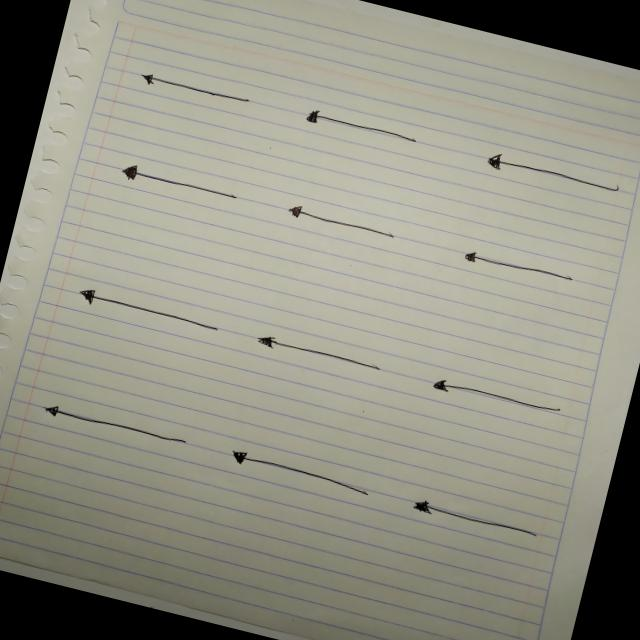arrow_line_left: (27, 392, 200, 462), (61, 277, 228, 346), (469, 143, 635, 210), (217, 440, 380, 508), (110, 152, 264, 220), (397, 488, 556, 552), (418, 364, 570, 429), (283, 99, 431, 164), (271, 192, 413, 255), (244, 326, 394, 384), (124, 61, 262, 119), (448, 239, 582, 293)
